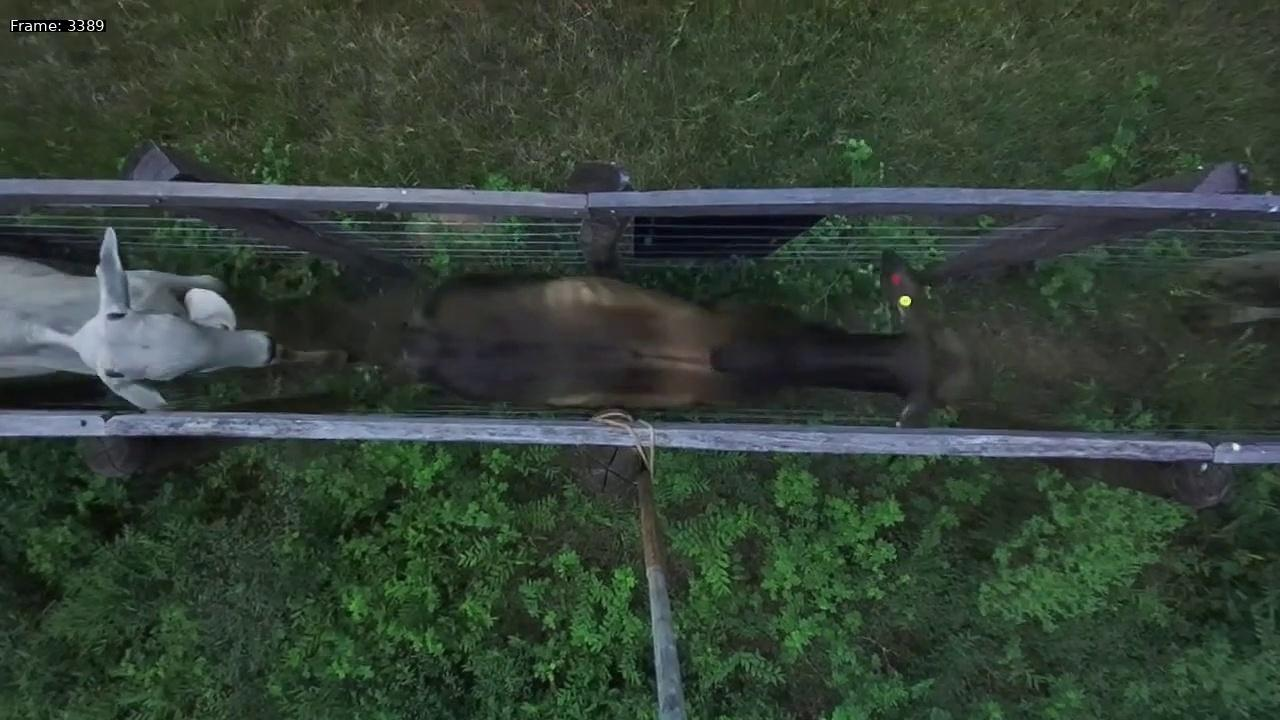cattle: (404, 225, 987, 453)
